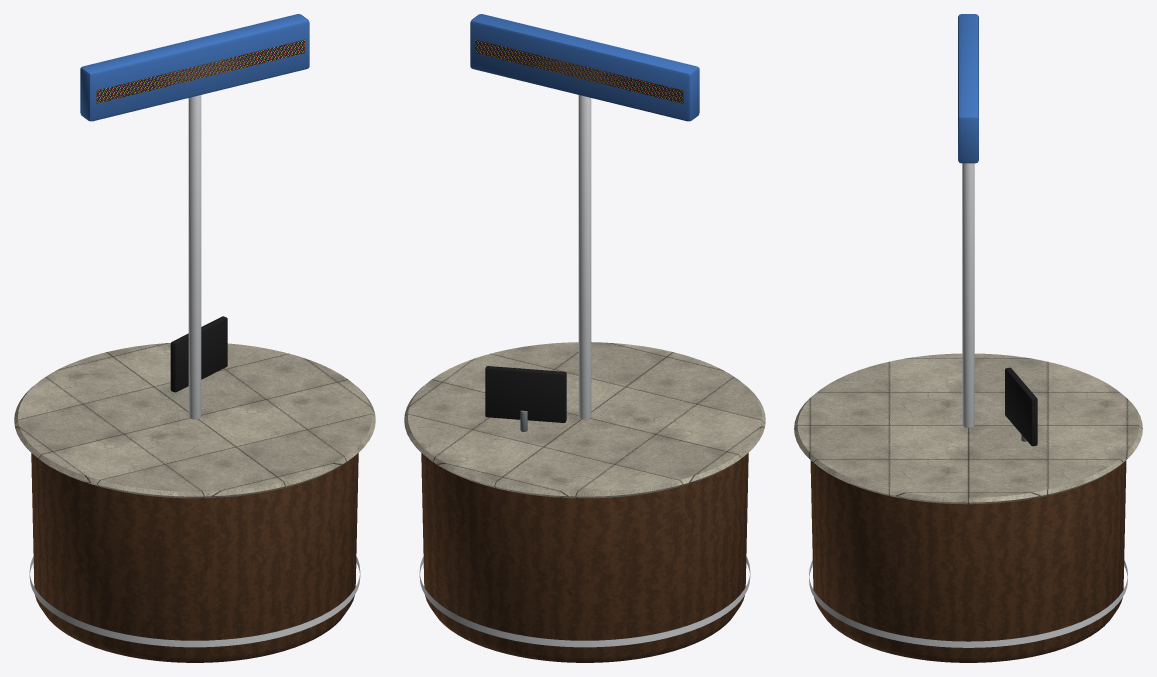
The model's file is InfoDesk.fbx.
The picture shows the model from 3 angles, left to right: view 1: azimuth 30°, elevation 25°; view 2: azimuth 150°, elevation 25°; view 3: azimuth 270°, elevation 25°; orthographic projection. The views are drawn at different scales.
Visible parts, largest first — view 1: InfoDesk; view 2: InfoDesk; view 3: InfoDesk.
Boxes of the visible parts, x1,y1,x2,y2 form: InfoDesk: [14, 14, 375, 662]; InfoDesk: [404, 14, 765, 662]; InfoDesk: [794, 14, 1142, 662].
Size of the model in its own units: 1.98 by 3.35 by 1.98.
